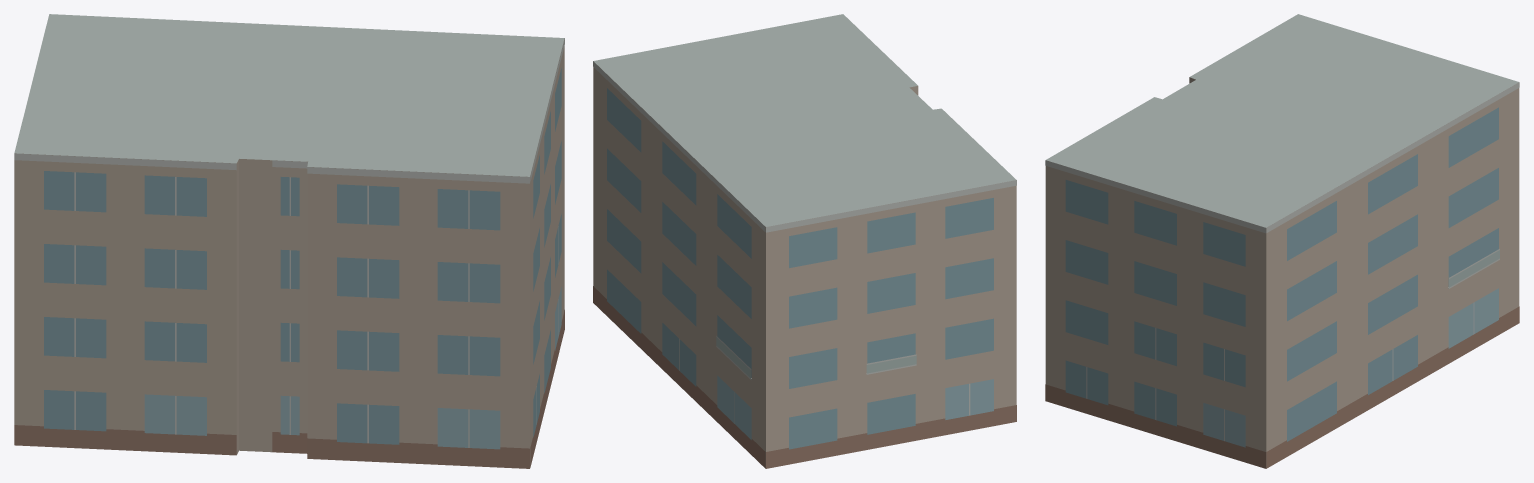
File: survey-upis-32610254.glb
The picture shows the model from 3 angles, left to right: view 1: azimuth 30°, elevation 25°; view 2: azimuth 150°, elevation 25°; view 3: azimuth 270°, elevation 25°; orthographic projection. The views are drawn at different scales.
Parts seen in each view (by area): view 1: survey-upis-32610254.tmp; view 2: survey-upis-32610254.tmp; view 3: survey-upis-32610254.tmp.
Part boxes in pixels (x1,y1,x2,y2): survey-upis-32610254.tmp: (14, 14, 564, 468); survey-upis-32610254.tmp: (593, 14, 1016, 468); survey-upis-32610254.tmp: (1045, 14, 1519, 468).
Size of the model in its own units: 19.99 by 10.5 by 18.72.
